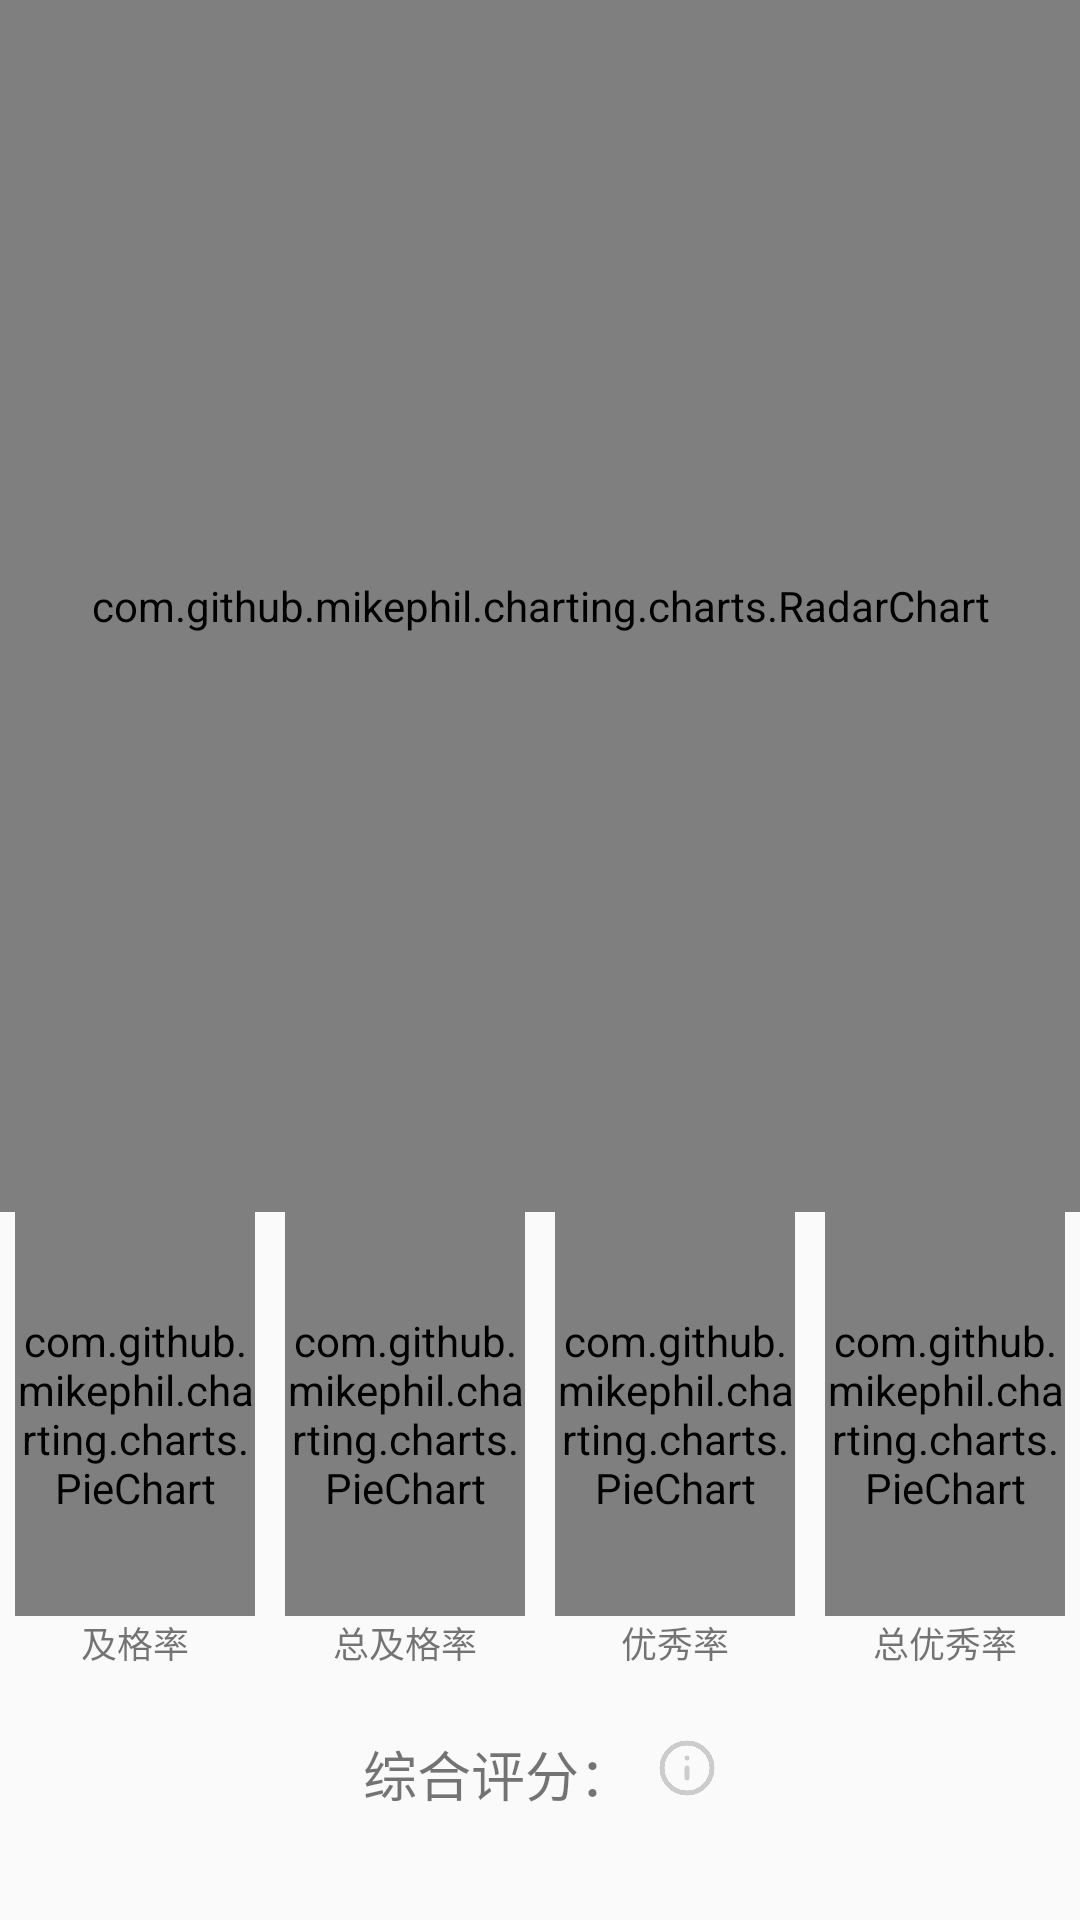

Screen size 1080 x 1920. Icon name, then its center in pixels as point (x, y):
about: point (687, 1768)
